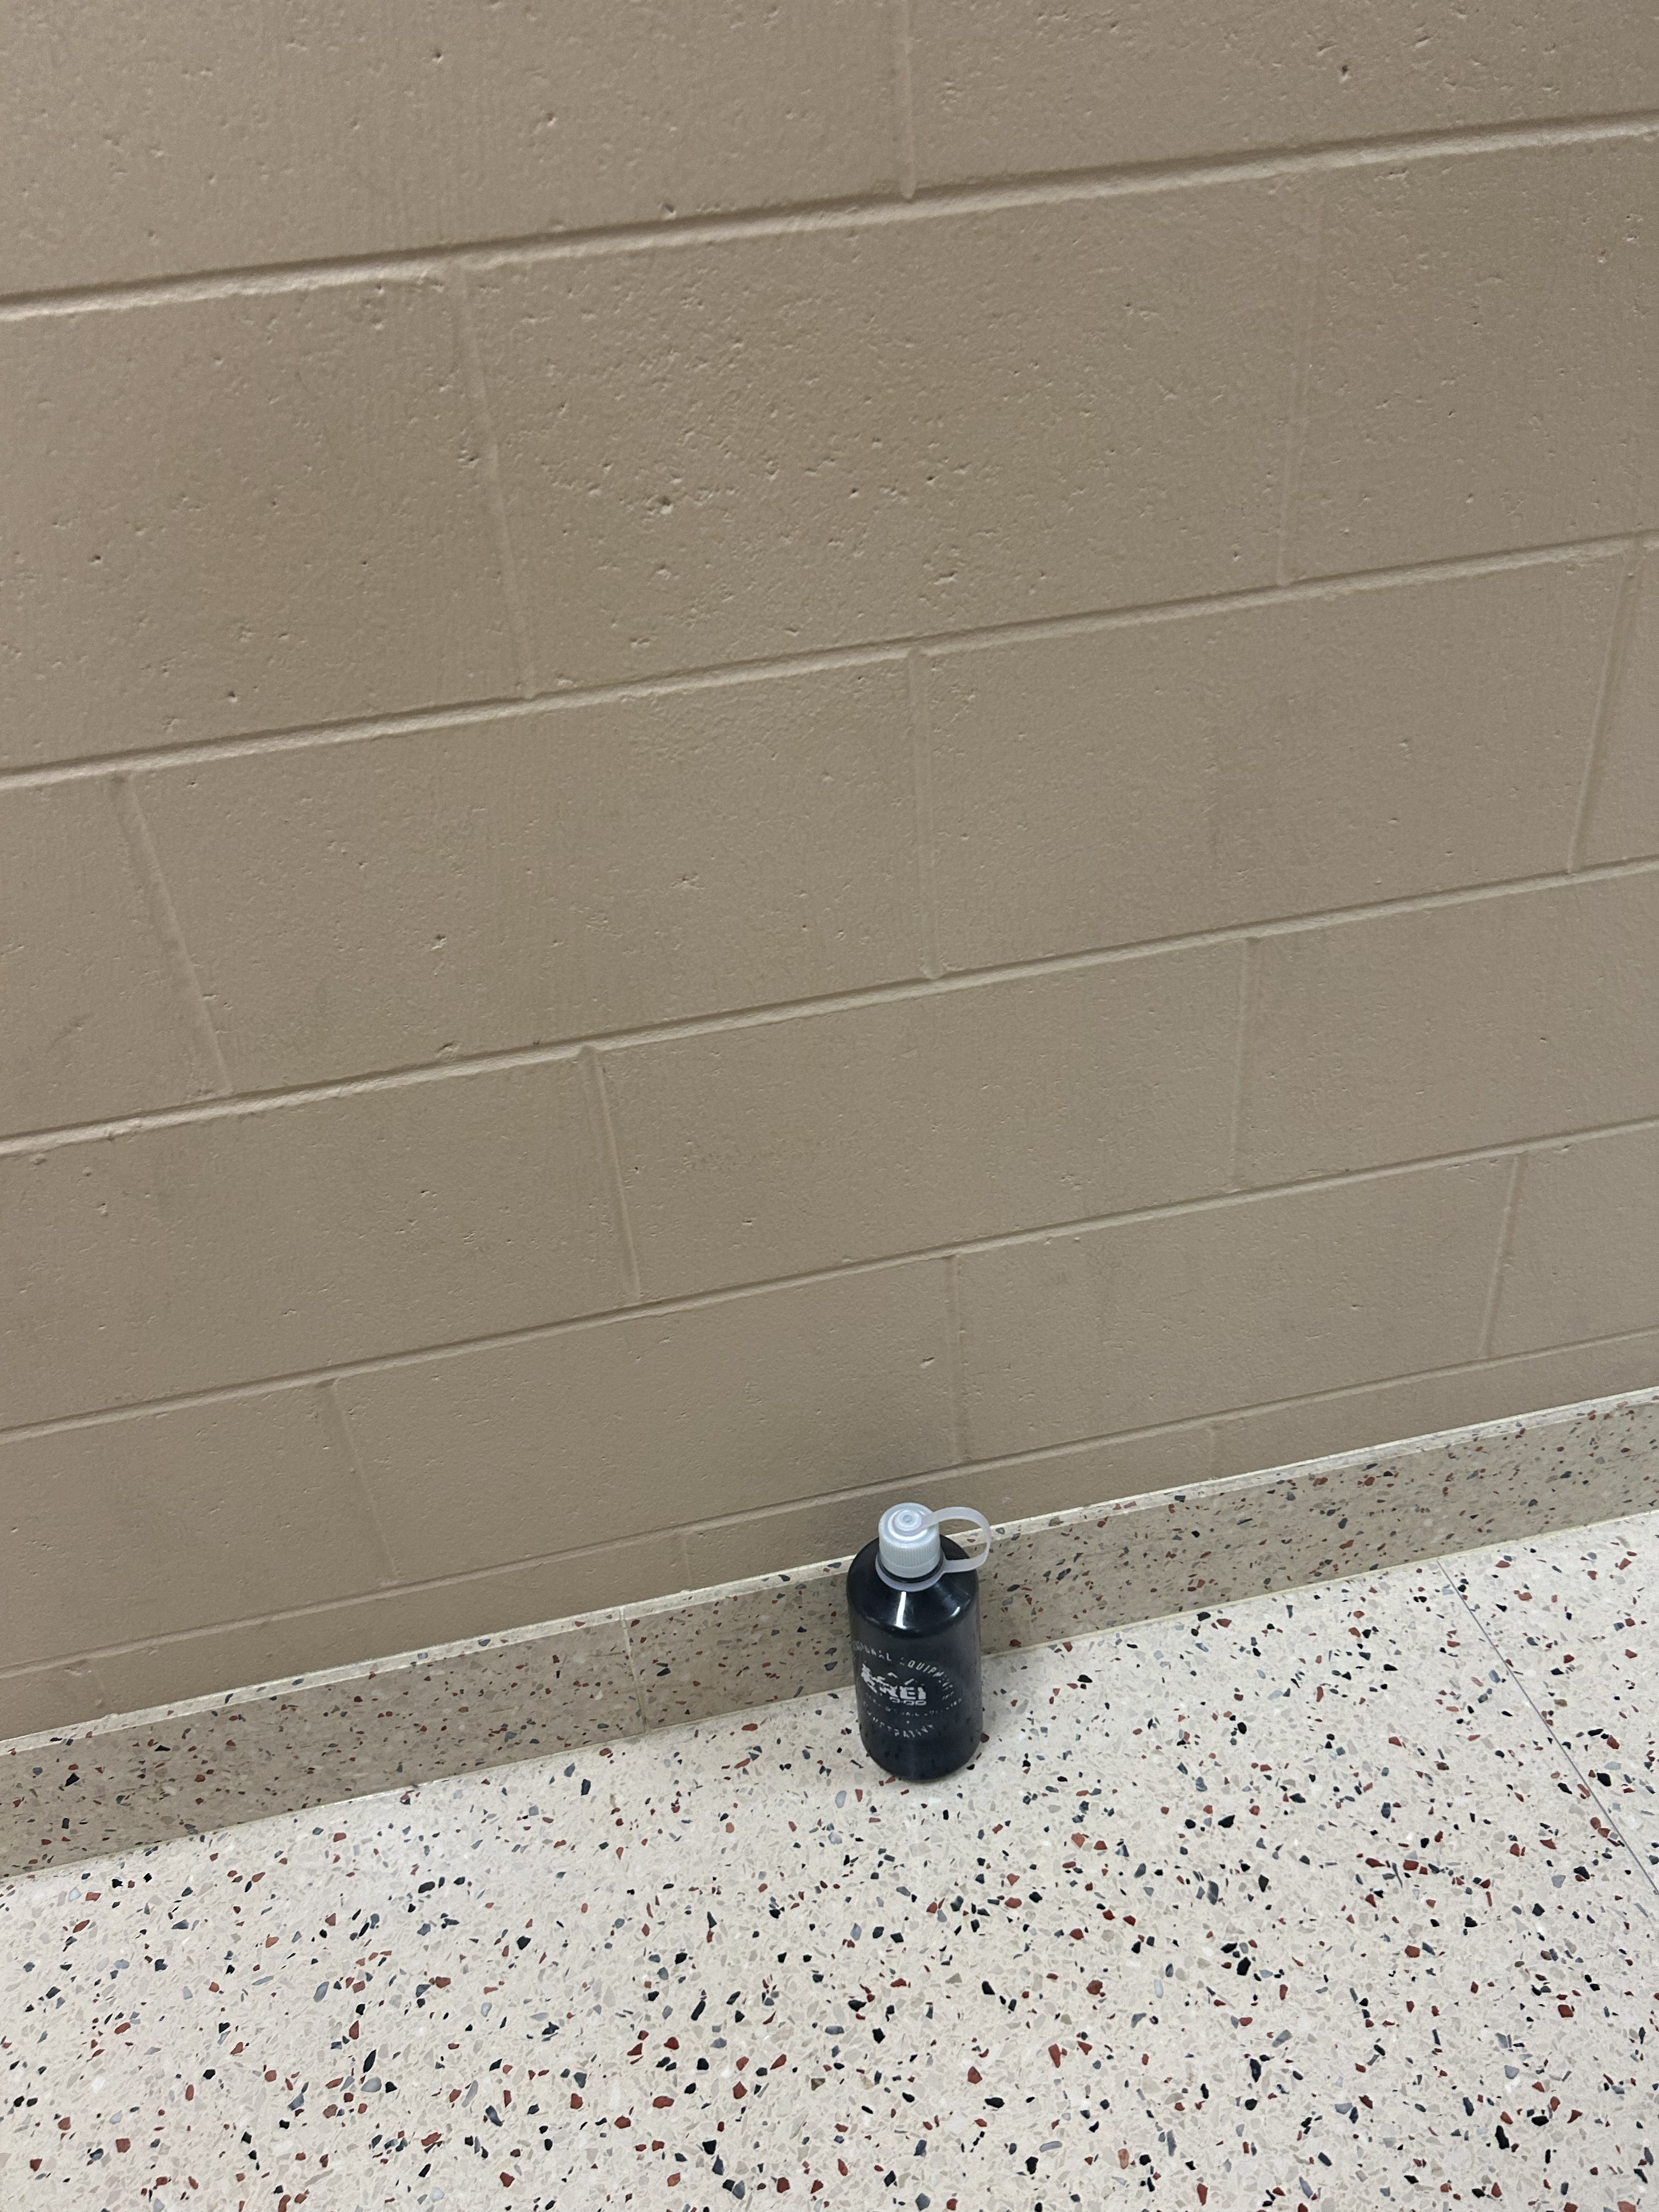bottle: (842, 1487, 990, 1792)
